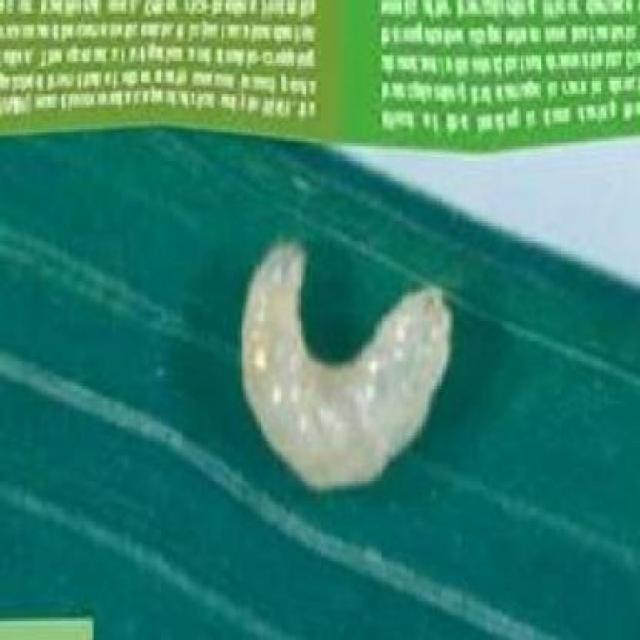whorl-maggot: (236, 237, 458, 509)
